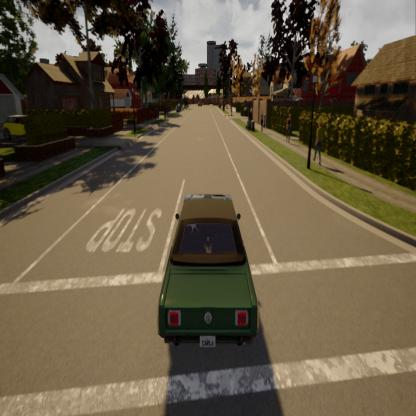Cars: (143, 184, 274, 356)
Pedestrian: (309, 120, 329, 169), (284, 113, 296, 148), (257, 109, 266, 135)
